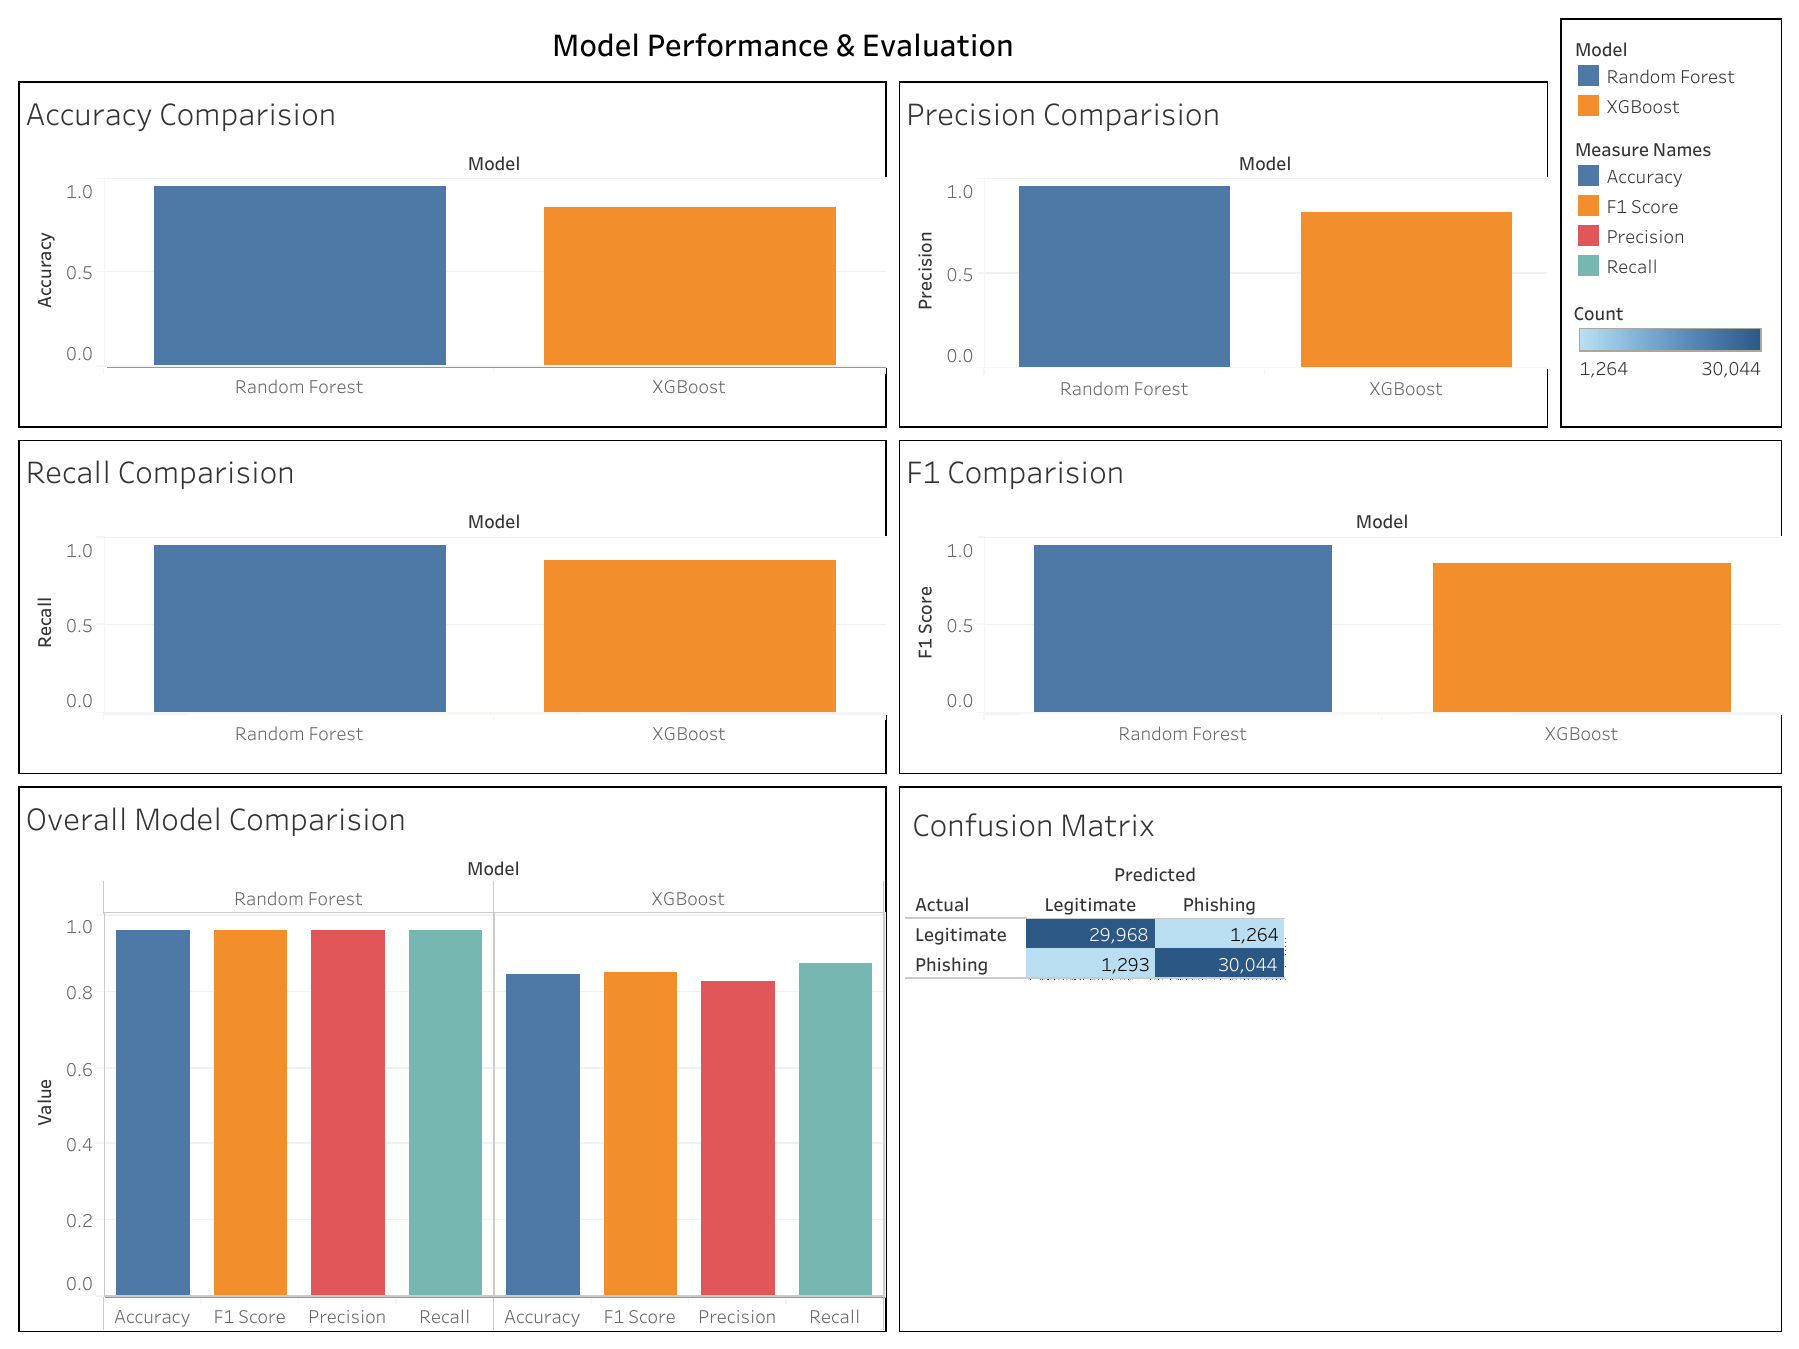

The dashboard page shown, as its layout file describes it:
{"tool":"tableau","page":{"name":"Model Performance & Evaluation ","canvas":[1200,900],"ordinal":2},"visuals":[{"type":"text","box":[8,8,1028,42]},{"type":"legend","title":"Accuracy Comparision","param":"[federated.1g0wg6x0oqyhwr1frbvzn1x7vf9l].[none:Model:nk]","box":[1045,17,138,66]},{"type":"worksheet","title":"Accuracy Comparision","mark":"Automatic","rows":["Accuracy"],"cols":["Model"],"box":[8,50,587,239]},{"type":"worksheet","title":"Precision Comparision","mark":"Automatic","rows":["Precision"],"cols":["Model"],"box":[595,50,441,239]},{"type":"legend","title":"Overall Model Comparision","param":"[federated.1g0wg6x0oqyhwr1frbvzn1x7vf9l].[:Measure Names]","box":[1045,83,138,106]},{"type":"legend","title":"Confusion Matrix","param":"[federated.1x71koq0tktnsn18jccyk083lfns].[sum:Count:qk]","box":[1045,189,138,65]},{"type":"worksheet","title":"Recall Comparision","mark":"Automatic","rows":["Recall"],"cols":["Model"],"box":[8,289,587,231]},{"type":"worksheet","title":"F1 Comparision","mark":"Automatic","rows":["F1 Score"],"cols":["Model"],"box":[595,289,597,231]},{"type":"worksheet","title":"Overall Model Comparision","mark":"Automatic","cols":["Model"],"box":[8,520,587,372]},{"type":"worksheet","title":"Confusion Matrix","mark":"Square","rows":["Actual"],"cols":["Predicted"],"box":[600,525,587,132]}]}

Visuals, with their boxes in screenshot pixels (x1, y1, x2, y2), scaled from the page's 1200x900 canvas onto the 1799x1349 screenshot:
text: 12,12,1553,75
"Accuracy Comparision" legend: 1567,25,1774,124
"Accuracy Comparision" worksheet: 12,75,892,433
"Precision Comparision" worksheet: 892,75,1553,433
"Overall Model Comparision" legend: 1567,124,1774,283
"Confusion Matrix" legend: 1567,283,1774,381
"Recall Comparision" worksheet: 12,433,892,779
"F1 Comparision" worksheet: 892,433,1787,779
"Overall Model Comparision" worksheet: 12,779,892,1337
"Confusion Matrix" worksheet (Square marks): 900,787,1780,985
